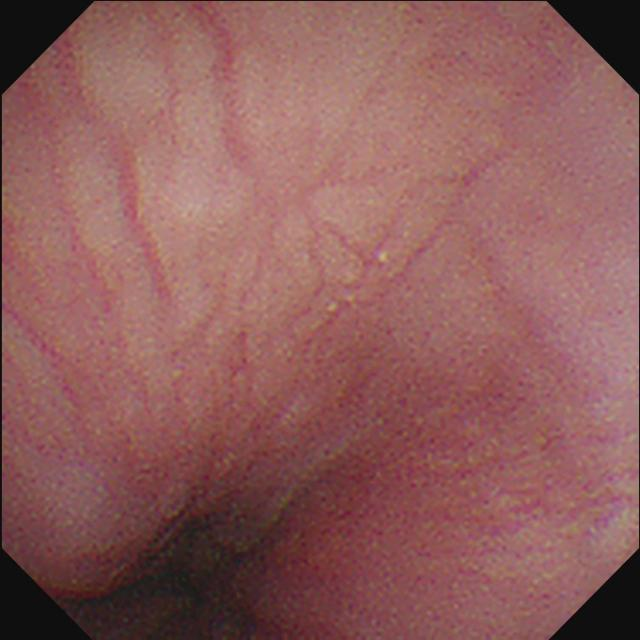E: (101, 514, 243, 623)
